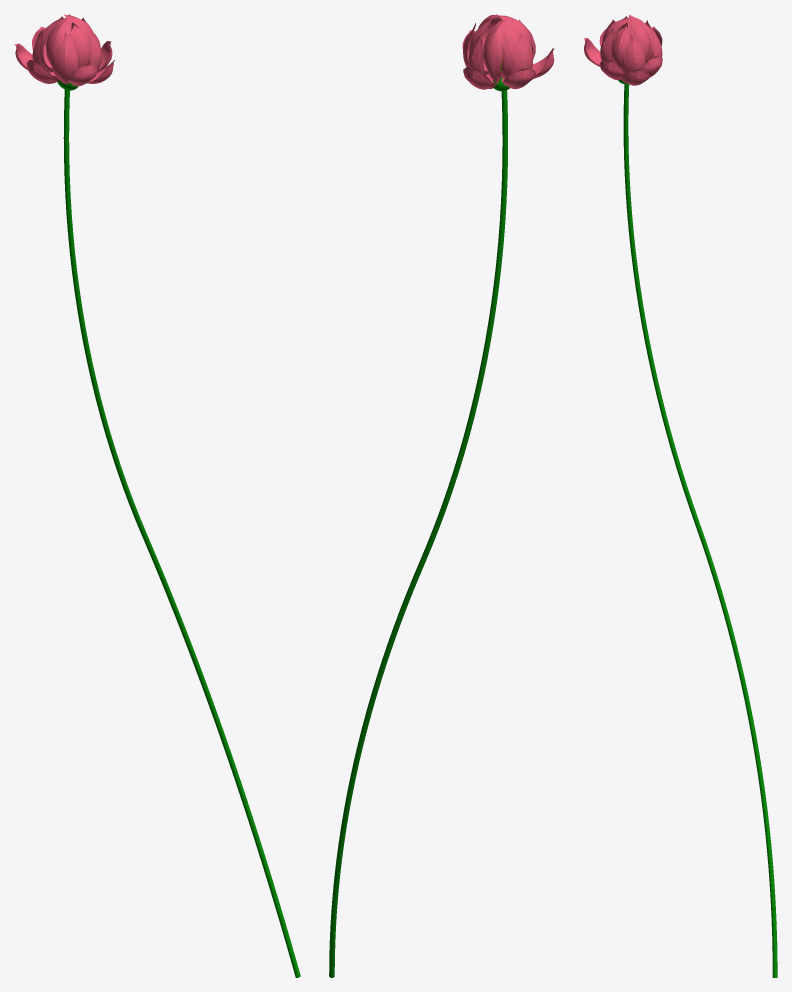
Rendered from Lotus047.fbx.
3 views of the same model, side by side, from view 1: azimuth 30°, elevation 25°; view 2: azimuth 150°, elevation 25°; view 3: azimuth 330°, elevation 25° (orthographic). The views are drawn at different scales.
Visible parts, largest first — view 1: pCylinder5, nurbsToPoly16; view 2: pCylinder5, nurbsToPoly23, nurbsToPoly20, nurbsToPoly14; view 3: pCylinder5, nurbsToPoly13, nurbsToPoly22, nurbsToPoly18.
Part boxes in pixels (<box>): pCylinder5: <box>63,89,300,977</box>; nurbsToPoly16: <box>52,32,78,83</box>; pCylinder5: <box>329,90,507,977</box>; nurbsToPoly23: <box>483,20,504,81</box>; nurbsToPoly20: <box>500,19,519,79</box>; nurbsToPoly14: <box>510,34,532,73</box>; pCylinder5: <box>623,84,777,977</box>; nurbsToPoly13: <box>621,36,645,73</box>; nurbsToPoly22: <box>627,14,650,61</box>; nurbsToPoly18: <box>611,25,630,67</box>.
Bounding box in the file's own units: 52.05 × 204 × 23.92.
